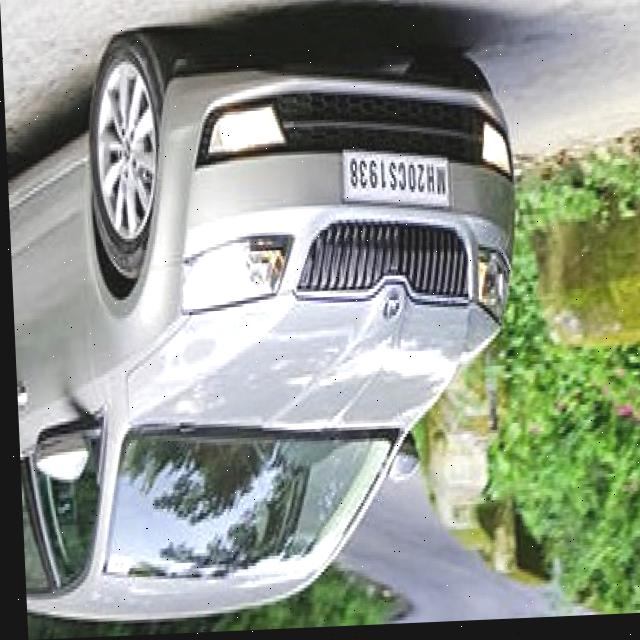plate: (339, 149, 452, 220)
